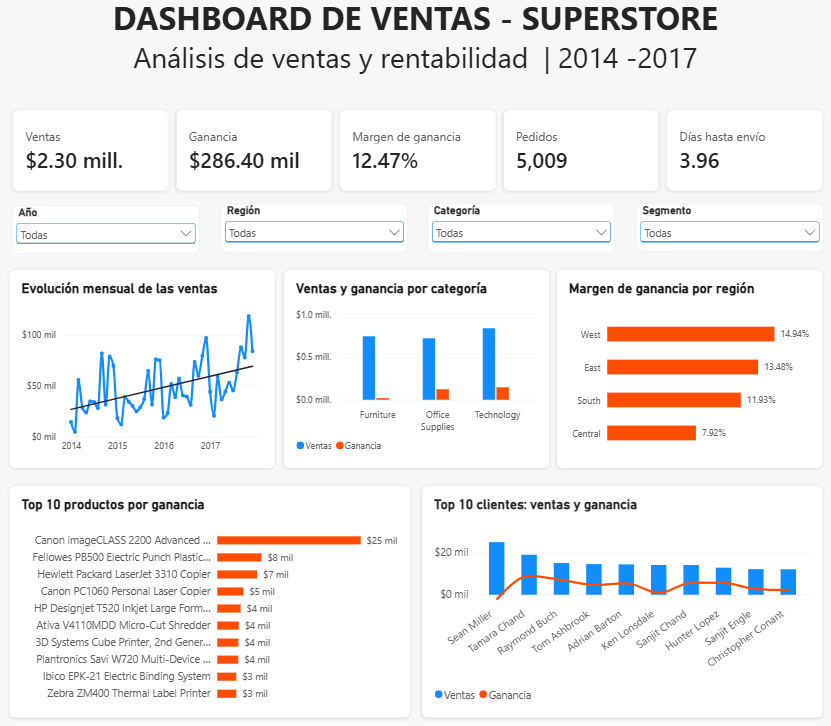

This screenshot's page, from the dashboard's own definition file:
{"tool":"powerbi","page":{"name":"Dashboard","canvas":[1920,1080],"ordinal":1},"visuals":[{"type":"textbox","box":[303.2,21.7,1331.7,162.4],"z":0},{"type":"slicer","fields":{"Values":["Calendario.Año"]},"box":[431.8,319.8,250,65],"z":1000},{"type":"slicer","fields":{"Values":["Superstore.Region"]},"box":[709.1,317.8,250,65],"z":2000},{"type":"slicer","fields":{"Values":["Superstore.Category"]},"box":[986.5,317.8,250,65],"z":3000},{"type":"slicer","fields":{"Values":["Superstore.Segment"]},"box":[1263.8,317.8,250,64],"z":4000},{"type":"cardVisual","fields":{"Data":["Medidas.Ventas"]},"box":[431.1,192.8,210,110],"z":5000},{"type":"cardVisual","fields":{"Data":["Medidas.Ganancia"]},"box":[649.2,192.8,210,110],"z":6000},{"type":"cardVisual","fields":{"Data":["Medidas.Margen de ganancia"]},"box":[867.4,192.8,210,110],"z":7000},{"type":"cardVisual","fields":{"Data":["Medidas.Pedidos"]},"box":[1085.5,192.8,210,110],"z":8000},{"type":"cardVisual","fields":{"Data":["Medidas.Promedio días hasta envío"]},"box":[1303.6,192.8,210,110],"z":9000},{"type":"lineChart","title":"Evolución mensual de las ventas","fields":{"Category":["Calendario.Inicio de mes"],"Y":["Medidas.Ventas"]},"box":[427.8,405.8,355,265],"z":10000},{"type":"clusteredColumnChart","title":"Ventas y ganancia por categoría","fields":{"Category":["Superstore.Category"],"Y":["Medidas.Ventas","Medidas.Ganancia"]},"box":[793.8,405.8,355,265],"z":11000},{"type":"clusteredBarChart","title":"Margen de ganancia por región","fields":{"Category":["Superstore.Region"],"Y":["Medidas.Margen de ganancia"]},"box":[1157.8,405.3,355,265],"z":12000},{"type":"clusteredBarChart","title":"Top 10 productos por ganancia","fields":{"Category":["Superstore.Product Name"],"Y":["Medidas.Ganancia"]},"box":[427.8,693.8,535,310],"z":13000},{"type":"lineClusteredColumnComboChart","title":"Top 10 clientes: ventas y ganancia","fields":{"Category":["Superstore.Customer Name"],"Y":["Medidas.Ventas"],"Y2":["Medidas.Ganancia"]},"box":[977.8,693.8,535,310],"z":14000}]}

Visuals, with their boxes on the page's 1920x1080 design canvas (x1, y1, x2, y2). These are canvas units, not pixel positions in the 831x726 screenshot, which may show the page scaled, cropped or inside an application window:
textbox: 303/22/1635/184
slicer - Calendario.Año: 432/320/682/385
slicer - Superstore.Region: 709/318/959/383
slicer - Superstore.Category: 986/318/1236/383
slicer - Superstore.Segment: 1264/318/1514/382
cardVisual - Medidas.Ventas: 431/193/641/303
cardVisual - Medidas.Ganancia: 649/193/859/303
cardVisual - Medidas.Margen de ganancia: 867/193/1077/303
cardVisual - Medidas.Pedidos: 1086/193/1296/303
cardVisual - Medidas.Promedio días hasta envío: 1304/193/1514/303
"Evolución mensual de las ventas" lineChart: 428/406/783/671
"Ventas y ganancia por categoría" clusteredColumnChart: 794/406/1149/671
"Margen de ganancia por región" clusteredBarChart: 1158/405/1513/670
"Top 10 productos por ganancia" clusteredBarChart: 428/694/963/1004
"Top 10 clientes: ventas y ganancia" lineClusteredColumnComboChart: 978/694/1513/1004
